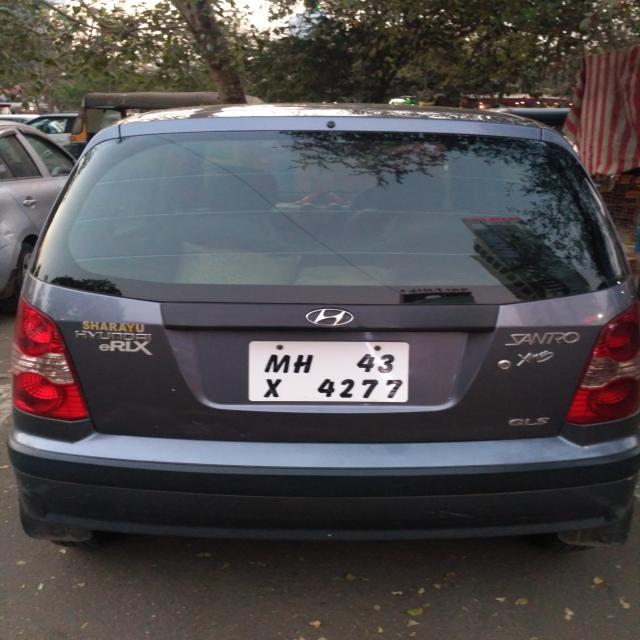Number-Plate: (250, 341, 414, 397)
